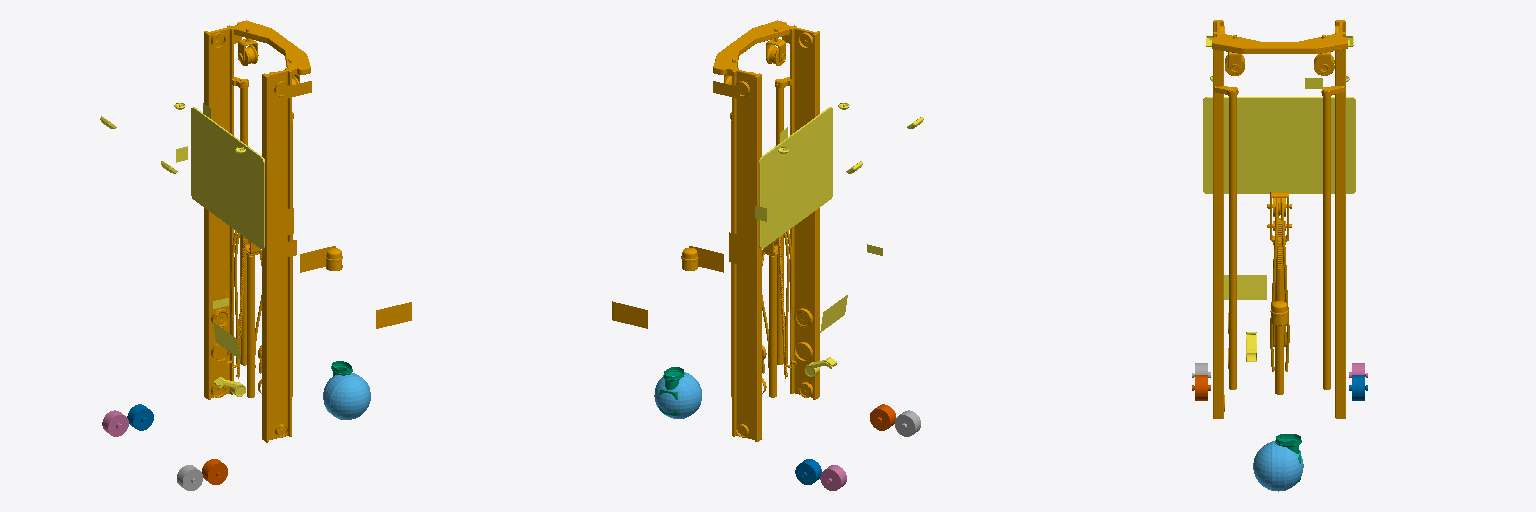
The robot description file, URDF, robot "forklift_b":
<?xml version="1.0" encoding="UTF-8"?>

<robot name="forklift_b">
  <joint name="back_left_roller" type="continuous">
    <origin xyz="-0.7175298 0.499 0.0782947" rpy="0. 0. -1.5707964"/>
    <parent link="base_link"/>
    <child link="roller_back_left"/>
    <axis xyz="1. 0. 0."/>
  </joint>

  <joint name="back_right_roller" type="continuous">
    <origin xyz="-0.7175298 -0.4936301 0.0782947" rpy="0. 0. -1.5707964"/>
    <parent link="base_link"/>
    <child link="roller_back_right"/>
    <axis xyz="1. 0. 0."/>
  </joint>

  <joint name="front_left_roller" type="continuous">
    <origin xyz="-0.91012 0.499 0.0782944" rpy="0. 0. -1.5707964"/>
    <parent link="base_link"/>
    <child link="roller_front_left"/>
    <axis xyz="1. 0. 0."/>
  </joint>

  <joint name="front_right_roller" type="continuous">
    <origin xyz="-0.91012 -0.4936301 0.0782947" rpy="0. 0. -1.5707964"/>
    <parent link="base_link"/>
    <child link="roller_front_right"/>
    <axis xyz="1. 0. 0."/>
  </joint>

  <joint name="back_wheel_drive" type="continuous">
    <origin xyz="0.07109 0.0023811 -0.1977193" rpy="0. 0. 0."/>
    <parent link="forklift_b_back_wheel_swivel"/>
    <child link="back_wheel"/>
    <axis xyz="1. 0. 0."/>
  </joint>

  <joint name="back_wheel_joints_back_wheel_swivel" type="revolute">
    <origin xyz="0.5775399 0.07873 0.3357546" rpy="0. 0. -1.5707964"/>
    <parent link="base_link"/>
    <child link="forklift_b_back_wheel_swivel"/>
    <axis xyz="0. 0. 1."/>
    <limit lower="-1.0471976" upper="1.0471976" effort="123" velocity="1.0"/>
    <dynamics damping="0.1" friction="0.05"/>
  </joint>

  <joint name="lift_joint" type="prismatic">
    <origin xyz="0. 0. 0." rpy="0. 0. -1.5707964"/>
    <parent link="base_link"/>
    <child link="lift"/>
    <axis xyz="0. 0. 1."/>
    <limit lower="-0.15" upper="2." effort="123" velocity="1.0"/>
    <dynamics damping="0.05" friction="0.02"/>
  </joint>

  <link name="base_link">
    <inertial>
      <mass value="50.0"/>
      <origin xyz="0 0 0"/> 
      <inertia ixx="0.05" ixy="0" ixz="0" iyy="0.05" iyz="0" izz="0.05"/> 
    </inertial>
    <visual>
      <origin xyz="0.5115191 0.0004539 -0.0079459" rpy="0. 0. -1.5707964"/>
      <geometry>
        <mesh filename="package://forklift_simulator/meshes/SM_Forklift_RightChainWheel_B01_01.obj" scale="0.01 0.01 0.01"/>
      </geometry>
    </visual>
    <visual>
      <origin xyz="0.5115191 0.0004539 -0.0079459" rpy="0. 0. -1.5707964"/>
      <geometry>
        <mesh filename="package://forklift_simulator/meshes/SM_Forklift_CenterChain_B01_01.obj" scale="0.01 0.01 0.01"/>
      </geometry>
    </visual>
    <visual>
      <origin xyz="0.5115191 0.0004539 -0.0079459" rpy="0. 0. -1.5707964"/>
      <geometry>
        <mesh filename="package://forklift_simulator/meshes/SM_Forklift_LeftChainWheel_B01_01.obj" scale="0.01 0.01 0.01"/>
      </geometry>
    </visual>
    <visual>
      <origin xyz="0.5115191 0.0004539 -0.0079459" rpy="0. 0. -1.5707964"/>
      <geometry>
        <mesh filename="package://forklift_simulator/meshes/SM_Forklift_RightHose_B01_01.obj" scale="0.01 0.01 0.01"/>
      </geometry>
    </visual>
    <visual>
      <origin xyz="0.5115191 0.0004539 -0.0079459" rpy="0. 0. -1.5707964"/>
      <geometry>
        <mesh filename="package://forklift_simulator/meshes/SM_Forklift_LeftHose_B01_01.obj" scale="0.01 0.01 0.01"/>
      </geometry>
    </visual>
    <visual>
      <origin xyz="0.5115191 0.0004539 -0.0079459" rpy="0. 0. -1.5707964"/>
      <geometry>
        <mesh filename="package://forklift_simulator/meshes/SM_Forklift_HoseWheel_B01_01.obj" scale="0.01 0.01 0.01"/>
      </geometry>
    </visual>
    <visual>
      <origin xyz="0.5115191 0.0004539 -0.0079459" rpy="0. 0. -1.5707964"/>
      <geometry>
        <mesh filename="package://forklift_simulator/meshes/SM_Forklift_CenterChainWheel_B01_01.obj" scale="0.01 0.01 0.01"/>
      </geometry>
    </visual>
    <visual>
      <origin xyz="0.5115191 0.0004539 -0.0079459" rpy="0. 0. -1.5707964"/>
      <geometry>
        <mesh filename="package://forklift_simulator/meshes/SM_Forklift_OperatorCabTopWheels_B01_01.obj" scale="0.01 0.01 0.01"/>
      </geometry>
    </visual>
    <visual>
      <origin xyz="0.5115191 0.0004539 -0.0079458" rpy="0. 0. -1.5707964"/>
      <geometry>
        <mesh filename="package://forklift_simulator/meshes/SM_Forklift_OperatorCabBotWheels_B01_01.obj" scale="0.01 0.01 0.01"/>
      </geometry>
    </visual>
    <visual>
      <origin xyz="0.5115191 0.0004539 -0.0079458" rpy="0. 0. -1.5707964"/>
      <geometry>
        <mesh filename="package://forklift_simulator/meshes/SM_Forklift_LiftBotWheels_B01_01.obj" scale="0.01 0.01 0.01"/>
      </geometry>
    </visual>
    <visual>
      <origin xyz="0.5115191 0.0004539 -0.0079459" rpy="0. 0. -1.5707964"/>
      <geometry>
        <mesh filename="package://forklift_simulator/meshes/SM_Forklift_LiftTopWheels_B01_01.obj" scale="0.01 0.01 0.01"/>
      </geometry>
    </visual>
    <visual>
      <origin xyz="0.5115191 0.0004539 -0.0079459" rpy="0. 0. -1.5707964"/>
      <geometry>
        <mesh filename="package://forklift_simulator/meshes/SM_Forklift_MastTopWheels_B01_01.obj" scale="0.01 0.01 0.01"/>
      </geometry>
    </visual>
    <visual>
      <origin xyz="0.5115191 0.0004539 -0.0079458" rpy="0. 0. -1.5707964"/>
      <geometry>
        <mesh filename="package://forklift_simulator/meshes/SM_Forklift_MastBottomWheels_B01_01.obj" scale="0.01 0.01 0.01"/>
      </geometry>
    </visual>
    <visual>
      <origin xyz="0.5115191 0.0004539 -0.0079459" rpy="0. 0. -1.5707964"/>
      <geometry>
        <mesh filename="package://forklift_simulator/meshes/SM_Forklift_CenterHydralicLift_B01_01.obj" scale="0.01 0.01 0.01"/>
      </geometry>
    </visual>
    <visual>
      <origin xyz="0.5115191 0.0004539 -0.0079459" rpy="0. 0. -1.5707964"/>
      <geometry>
        <mesh filename="package://forklift_simulator/meshes/SM_Forklift_HydraulicSystem_B01_01.obj" scale="0.01 0.01 0.01"/>
      </geometry>
    </visual>
    <visual>
      <origin xyz="0.5115191 0.0004539 -0.0079459" rpy="0. 0. -1.5707964"/>
      <geometry>
        <mesh filename="package://forklift_simulator/meshes/SM_Forklift_LeftChain_B01_01.obj" scale="0.01 0.01 0.01"/>
      </geometry>
    </visual>
    <visual>
      <origin xyz="0.5115191 0.0004539 -0.0079459" rpy="0. 0. -1.5707964"/>
      <geometry>
        <mesh filename="package://forklift_simulator/meshes/SM_Forklift_RightChain_B01_01.obj" scale="0.01 0.01 0.01"/>
      </geometry>
    </visual>
    <visual>
      <origin xyz="0.511519 0.0004539 -0.0079459" rpy="0. 0. -1.5707964"/>
      <geometry>
        <mesh filename="package://forklift_simulator/meshes/SM_Forklift_Body_B01_01.obj" scale="1 1 1"/>
      </geometry>
    </visual>
    <visual>
      <origin xyz="0.5115191 0.0004539 -0.0079459" rpy="0. 0. -1.5707964"/>
      <geometry>
        <mesh filename="package://forklift_simulator/meshes/SM_Forklift_BodyDecal_B01_01.obj" scale="0.01 0.01 0.01"/>
      </geometry>
    </visual>
    <visual>
      <origin xyz="0.5115191 0.0004539 -0.0079459" rpy="0. 0. -1.5707964"/>
      <geometry>
        <mesh filename="package://forklift_simulator/meshes/SM_Forklift_BodyGlass_B01_01.obj" scale="0.01 0.01 0.01"/>
      </geometry>
    </visual>
    <collision>
      <origin xyz="0.511519 0.0004539 -0.0079459" rpy="0. 0. -1.5707964"/>
      <geometry>
        <mesh filename="package://forklift_simulator/meshes/SM_Forklift_Body_B01_01.obj" scale="0.01 0.01 0.01"/>
      </geometry>
      <surface>
        <friction>
          <ode>
            <mu>1.0</mu>
            <mu2>1.0</mu2>
          </ode>
        </friction>
        <contact>
          <ode>
            <soft_cfm>0.01</soft_cfm>
            <soft_erp>0.8</soft_erp>
          </ode>
        </contact>
      </surface>
    </collision>
    <dynamics damping="0.2" friction="0.1"/>
  </link>

  <link name="back_wheel">
    <inertial>
      <mass value="0.5"/>
      <origin xyz="0 0 0"/> 
      <inertia ixx="0.05" ixy="0" ixz="0" iyy="0.05" iyz="0" izz="0.05"/> 
    </inertial>
    <visual>
      <origin xyz="-0.0080899 -0.0684045 -0.1639691" rpy="0. 0. -0."/>
      <geometry>
        <mesh filename="package://forklift_simulator/meshes/SM_Forklift_BackWheel_B01_01.obj" scale="0.01 0.01 0.01"/>
      </geometry>
    </visual>
    <visual>
      <origin xyz="0.015 -0.000001 -0. " rpy="0. 0. -0."/>
      <geometry>
        <sphere radius="0.16"/>
      </geometry>
    </visual>
    <collision>
      <origin xyz="0.015 -0.000001 -0. " rpy="0. 0. -0."/>
      <geometry>
        <sphere radius="0.16"/>
      </geometry>
    </collision>
  </link>
  <link name="forklift_b_back_wheel_swivel">
    <inertial>
      <mass value="0.5"/>
      <origin xyz="0 0 0"/> 
      <inertia ixx="0.05" ixy="0" ixz="0" iyy="0.05" iyz="0" izz="0.05"/> 
    </inertial>
    <visual>
      <origin xyz="0.0782744 -0.0660223 -0.3616884" rpy="0. 0. -0."/>
      <geometry>
        <mesh filename="package://forklift_simulator/meshes/SM_Forklift_BackWheelbase_B01_01.obj" scale="0.01 0.01 0.01"/>
      </geometry>
    </visual>
    <collision>
      <origin xyz="0.0782744 -0.0660223 -0.3616884" rpy="0. 0. -0."/>
      <geometry>
        <mesh filename="package://forklift_simulator/meshes/SM_Forklift_BackWheelbase_B01_01.obj" scale="0.01 0.01 0.01"/>
      </geometry>
    </collision>
  </link>
  <link name="lift">
    <inertial>
      <mass value="0.5"/>
      <origin xyz="0 0 0"/> 
      <inertia ixx="0.05" ixy="0" ixz="0" iyy="0.05" iyz="0" izz="0.05"/> 
    </inertial>
    <visual>
      <origin xyz="-0.0004539 0.511519 -0.0079459" rpy="0. 0. 0."/>
      <geometry>
        <mesh filename="package://forklift_simulator/meshes/SM_Forklift_Lift_B01_01.obj" scale="0.01 0.01 0.01"/>
      </geometry>
      <material name="fork">
        <texture filename="package://forklift_simulator/meshes/materials/T_Forklift_B1_Albedo.1003.png"/>
      </material>
    </visual>
    <visual>
      <origin xyz="-0.0004539 0.5115191 -0.0079459" rpy="0. 0. 0."/>
      <geometry>
        <mesh filename="package://forklift_simulator/meshes/SM_Forklift_OperatorCabGlass_B01_01.obj" scale="0.01 0.01 0.01"/>
      </geometry>
    </visual>
    <visual>
      <origin xyz="-0.0004539 0.5115191 -0.0079459" rpy="0. 0. 0."/>
      <geometry>
        <mesh filename="package://forklift_simulator/meshes/SM_Forklift_OperatorCab_B01_01.obj" scale="0.01 0.01 0.01"/>
      </geometry>
    </visual>
    <visual>
      <origin xyz="-0.0004539 0.5115191 -0.0079459" rpy="0. 0. 0."/>
      <geometry>
        <mesh filename="package://forklift_simulator/meshes/SM_Forklift_OperatorCabDecal_B01_01.obj" scale="0.01 0.01 0.01"/>
      </geometry>
    </visual>
    <visual>
      <origin xyz="-0.0004539 0.511519 -0.0079458" rpy="0. 0. 0."/>
      <geometry>
        <mesh filename="package://forklift_simulator/meshes/SM_Forklift_OperatorCabPedal_B01_01.obj" scale="0.01 0.01 0.01"/>
      </geometry>
    </visual>
    <collision>
      <origin xyz="-0.0004539 0.5115191 -0.0079459" rpy="0. 0. 0."/>
      <geometry>
        <mesh filename="package://forklift_simulator/meshes/SM_Forklift_OperatorCab_B01_01.obj" scale="0.01 0.01 0.01"/>
      </geometry>
    </collision>
  </link>
  <link name="roller_back_left">
    <inertial>
      <mass value="0.5"/>
      <origin xyz="0 0 0"/> 
      <inertia ixx="0.05" ixy="0" ixz="0" iyy="0.05" iyz="0" izz="0.05"/> 
    </inertial>
    <visual>
      <origin xyz="-0.4994511 1.2290528 -0.0862405" rpy="0. 0. -0."/>
      <geometry>
        <mesh filename="package://forklift_simulator/meshes/SM_Forklift_LeadWheelsBackLeft_B01_01.obj" scale="0.01 0.01 0.01"/>
      </geometry>
    </visual>
    <visual>
      <origin xyz="0. -0.0000002 -0. " rpy="0. 1.5707964 0. "/>
      <geometry>
        <cylinder radius="0.08" length="0.08"/>
      </geometry>
    </visual>
    <collision>
      <origin xyz="0. -0.0000002 -0. " rpy="0. 1.5707964 0. "/>
      <geometry>
        <cylinder radius="0.08" length="0.08"/>
      </geometry>
    </collision>
  </link>
  <link name="roller_back_right">
    <inertial>
      <mass value="0.5"/>
      <origin xyz="0 0 0"/> 
      <inertia ixx="0.05" ixy="0" ixz="0" iyy="0.05" iyz="0" izz="0.05"/> 
    </inertial>
    <visual>
      <origin xyz="0.4931741 1.2290528 -0.0862405" rpy="0. 0. -0."/>
      <geometry>
        <mesh filename="package://forklift_simulator/meshes/SM_Forklift_LeadWheelsBackRight_B01_01.obj" scale="0.01 0.01 0.01"/>
      </geometry>
    </visual>
    <visual>
      <origin xyz="-0.0000001 -0.0000002 -0. " rpy="0. 1.5707964 0. "/>
      <geometry>
        <cylinder radius="0.08" length="0.08"/>
      </geometry>
    </visual>
    <collision>
      <origin xyz="-0.0000001 -0.0000002 -0. " rpy="0. 1.5707964 0. "/>
      <geometry>
        <cylinder radius="0.08" length="0.08"/>
      </geometry>
    </collision>
  </link>
  <link name="roller_front_left">
    <inertial>
      <mass value="0.5"/>
      <origin xyz="0 0 0"/> 
      <inertia ixx="0.05" ixy="0" ixz="0" iyy="0.05" iyz="0" izz="0.05"/> 
    </inertial>
    <visual>
      <origin xyz="-0.4994511 1.421635 -0.0862405" rpy="0. 0. -0."/>
      <geometry>
        <mesh filename="package://forklift_simulator/meshes/SM_Forklift_LeadWheelsFrontLeft_B01_01.obj" scale="0.01 0.01 0.01"/>
      </geometry>
    </visual>
    <visual>
      <origin xyz="0. 0. 0." rpy="0. 1.5707964 0. "/>
      <geometry>
        <cylinder radius="0.08" length="0.08"/>
      </geometry>
    </visual>
    <collision>
      <origin xyz="0. 0. 0." rpy="0. 1.5707964 0. "/>
      <geometry>
        <cylinder radius="0.08" length="0.08"/>
      </geometry>
    </collision>
  </link>
  <link name="roller_front_right">
    <inertial>
      <mass value="0.5"/>
      <origin xyz="0 0 0"/> 
      <inertia ixx="0.05" ixy="0" ixz="0" iyy="0.05" iyz="0" izz="0.05"/> 
    </inertial>
    <visual>
      <origin xyz="0.4931741 1.421635 -0.0862405" rpy="0. 0. -0."/>
      <geometry>
        <mesh filename="package://forklift_simulator/meshes/SM_Forklift_LeadWheelsFrontRight_B01_01.obj" scale="0.01 0.01 0.01"/>
      </geometry>
    </visual>
    <visual>
      <origin xyz="-0.0000001 0. -0. " rpy="0. 1.5707964 0. "/>
      <geometry>
        <cylinder radius="0.08" length="0.08"/>
      </geometry>
    </visual>
    <collision>
      <origin xyz="-0.0000001 0. -0. " rpy="0. 1.5707964 0. "/>
      <geometry>
        <cylinder radius="0.08" length="0.08"/>
      </geometry>
    </collision>
  </link>

  <!-- gazebo>
    <plugin name="differential_drive_controller" filename="libgazebo_ros_diff_drive.so">
        <legacyMode>false</legacyMode>
        <alwaysOn>true</alwaysOn>
      <updateRate>100.0</updateRate>
      <leftJoint>back_wheel_joints_back_wheel_swivel</leftJoint>
        <rightJoint>back_wheel_drive</rightJoint>
      <wheelSeparation>0.32</wheelSeparation>
      <wheelDiameter>0.18</wheelDiameter>
      <wheelTorque>5</wheelTorque>
        <wheelAcceleration>0</wheelAcceleration>
        <robotNamespace>/</robotNamespace>
      <commandTopic>cmd_vel</commandTopic>
      <odometryTopic>odom</odometryTopic>
        <odometrySource>world</odometrySource>
      <odometryFrame>odom</odometryFrame>
        <robotBaseFrame>base_link</robotBaseFrame>
        <publishTf>1</publishTf>
        <publishWheelTF>false</publishWheelTF>
        <publishOdomTF>true</publishOdomTF>
        <publishWheelJointState>false</publishWheelJointState>
        <rosDebugLevel>Warn</rosDebugLevel>
    </plugin>
    <plugin name="ground_truth_odometry" filename="libgazebo_ros_p3d.so">
      <alwaysOn>true</alwaysOn>
      <updateRate>100.0</updateRate>
      <bodyName>base_link</bodyName>
      <topicName>base_pose_ground_truth</topicName>
      <gaussianNoise>0.01</gaussianNoise>
      <frameName>map</frameName>
      <xyzOffsets>0 0 0</xyzOffsets>
      <rpyOffsets>0 0 0</rpyOffsets>
    </plugin>
  </gazebo -->

  <gazebo reference="forklift_body_01">
    <material>
      <script>
        <uri>file://forklift_simulator/meshes/materials/</uri>
        <name>SM_Forklift_Body_B01_01</name>
      </script>
    </material>
  </gazebo>

</robot>

--- Facts derived from the render (not from the file) ---
Views: 3 orthographic renders of the robot side by side, from view 1: azimuth 30°, elevation 25°; view 2: azimuth 150°, elevation 25°; view 3: azimuth 270°, elevation 25°.
Robot: forklift_b — 8 links, 7 joints (1 revolute, 5 continuous, 1 prismatic); root link base_link; default pose: all joints at 0.
Visible links, largest first — view 1: base_link, lift, back_wheel, roller_front_left, roller_back_left, roller_front_right; view 2: base_link, lift, back_wheel, roller_front_left, roller_front_right, roller_back_right; view 3: base_link, lift, back_wheel.
Boxes of the visible links, x1,y1,x2,y2 form: base_link: (204, 20, 411, 442); lift: (100, 103, 264, 396); back_wheel: (323, 373, 370, 419); roller_front_left: (102, 410, 128, 436); roller_back_left: (127, 404, 153, 430); roller_front_right: (177, 465, 202, 490); base_link: (612, 20, 819, 441); lift: (755, 103, 923, 376); back_wheel: (654, 372, 701, 418); roller_front_left: (820, 465, 846, 490); roller_front_right: (895, 410, 920, 436); roller_back_right: (870, 404, 895, 430); base_link: (1212, 20, 1347, 418); lift: (1203, 36, 1355, 361); back_wheel: (1253, 441, 1303, 491).
Size in the robot's own frame: 1.84 by 1.12 by 2.89 metres.
26 mesh visuals loaded from 31 distinct referenced files (26 OBJ); not drawn: 5 (reference not matched to a file when rendering).